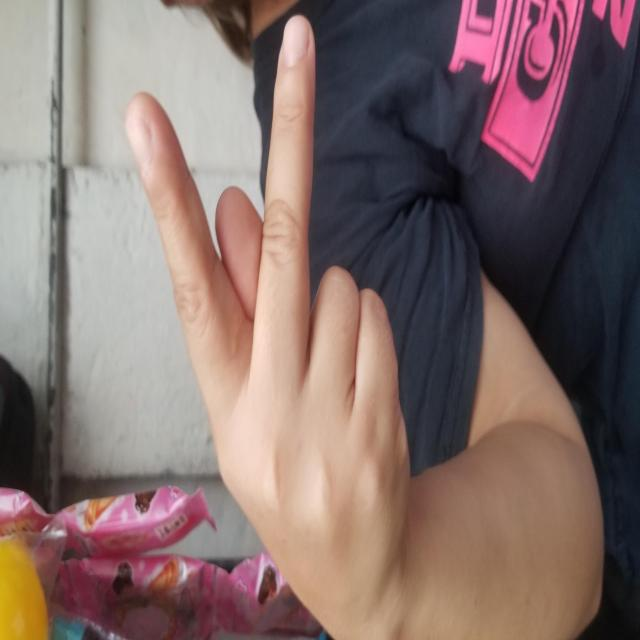K: (0, 124, 629, 412)
